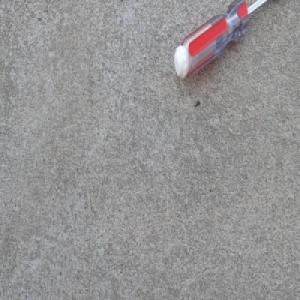Screwdriver: (172, 0, 275, 80)
